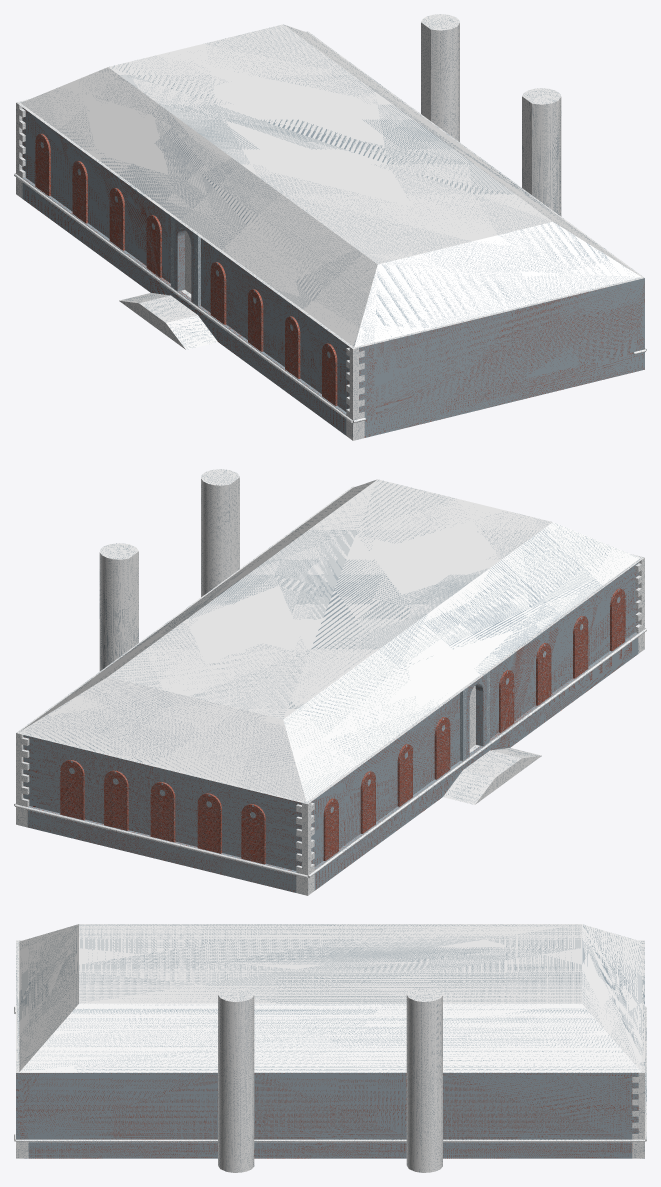
Rendered from Woodruff Textured.fbx.
3 renders of one model, top to bottom at view 1: azimuth 30°, elevation 25°; view 2: azimuth 150°, elevation 25°; view 3: azimuth 270°, elevation 25°, orthographic. The views are drawn at different scales.
Parts seen in each view (by area): view 1: Model, archway5, archway8, archway1, archway2, archway3, archway4, archway7, archway6; view 2: Model, archway11, archway10, archway12, archway13, archway9, archway4, archway1, archway5, archway6, archway7, archway8 (+2 smaller); view 3: Model.
Boxes of the visible parts, box(x1,y1,x2,y2) form: Model: box(14, 14, 646, 440); archway5: box(210, 262, 226, 324); archway8: box(322, 343, 337, 406); archway1: box(35, 133, 50, 196); archway2: box(72, 161, 87, 223); archway3: box(109, 188, 124, 250); archway4: box(146, 215, 161, 277); archway7: box(285, 316, 300, 378); archway6: box(248, 289, 263, 351); Model: box(14, 469, 646, 895); archway11: box(150, 782, 175, 842); archway10: box(104, 770, 128, 830); archway12: box(197, 793, 221, 853); archway13: box(241, 804, 265, 864); archway9: box(60, 760, 84, 820); archway4: box(434, 717, 450, 779); archway1: box(323, 798, 338, 861); archway5: box(499, 670, 514, 732); archway6: box(536, 643, 551, 705); archway7: box(573, 616, 588, 678); archway8: box(610, 588, 625, 651); Model: box(14, 924, 646, 1172).
Size of the model in its own units: 1461 by 720 by 2416.
